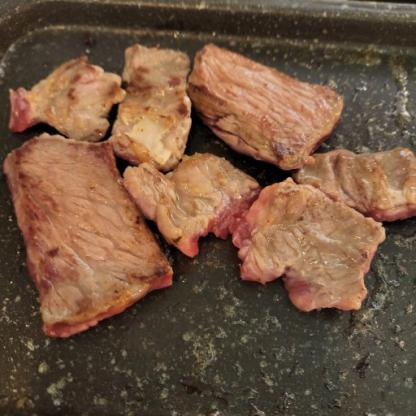Carne: (0, 134, 169, 340), (226, 172, 386, 320), (185, 39, 329, 174), (106, 41, 201, 186), (120, 146, 237, 257), (12, 54, 112, 150), (309, 137, 415, 224)
